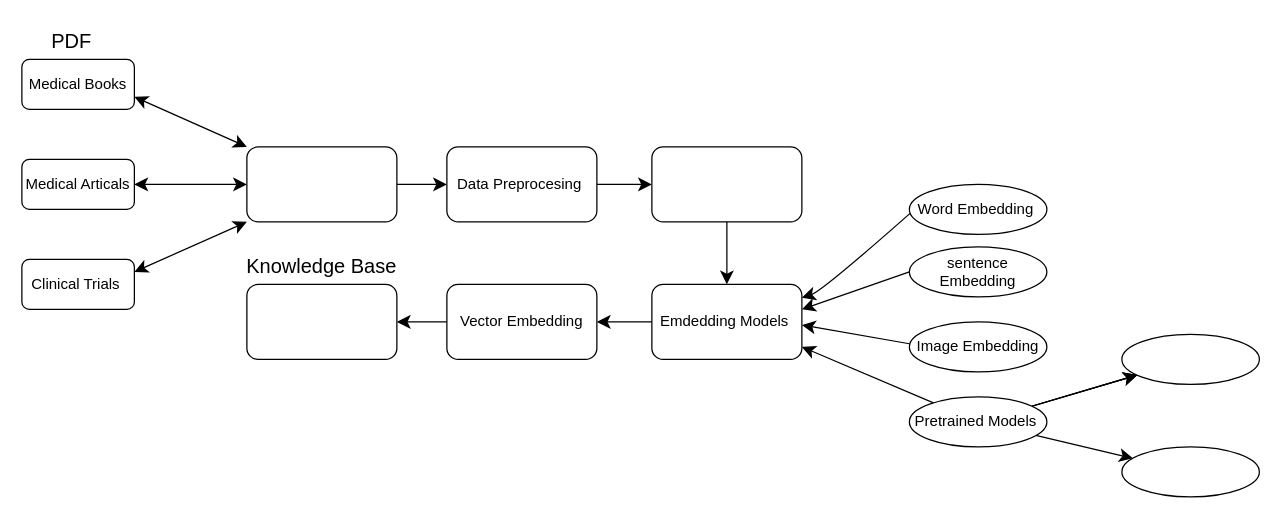
Some shapes in this 1281 by 519 pixel diagram are drawn without their labels. The centre of each missing label's shape, as x and y in pixels:
"Bert" belongs at pixel 1190 358.
"Chunking of the data" belongs at pixel 726 184.
"Collection of Medical Data" belongs at pixel 321 184.
"Gpt" belongs at pixel 1190 471.
"PineCone Vector Data Base" belongs at pixel 321 321.
